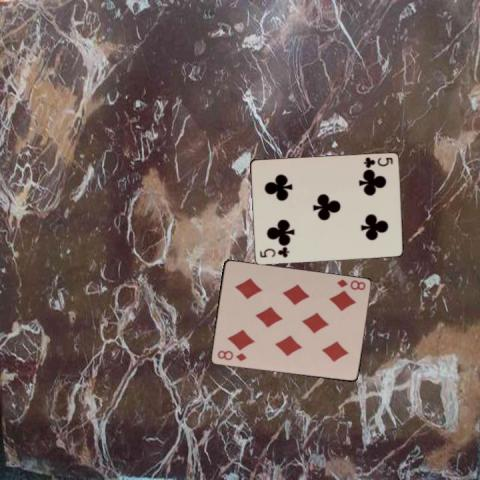5c: (361, 155, 394, 169), (256, 246, 290, 259)
8d: (214, 347, 248, 363), (334, 277, 367, 292)
